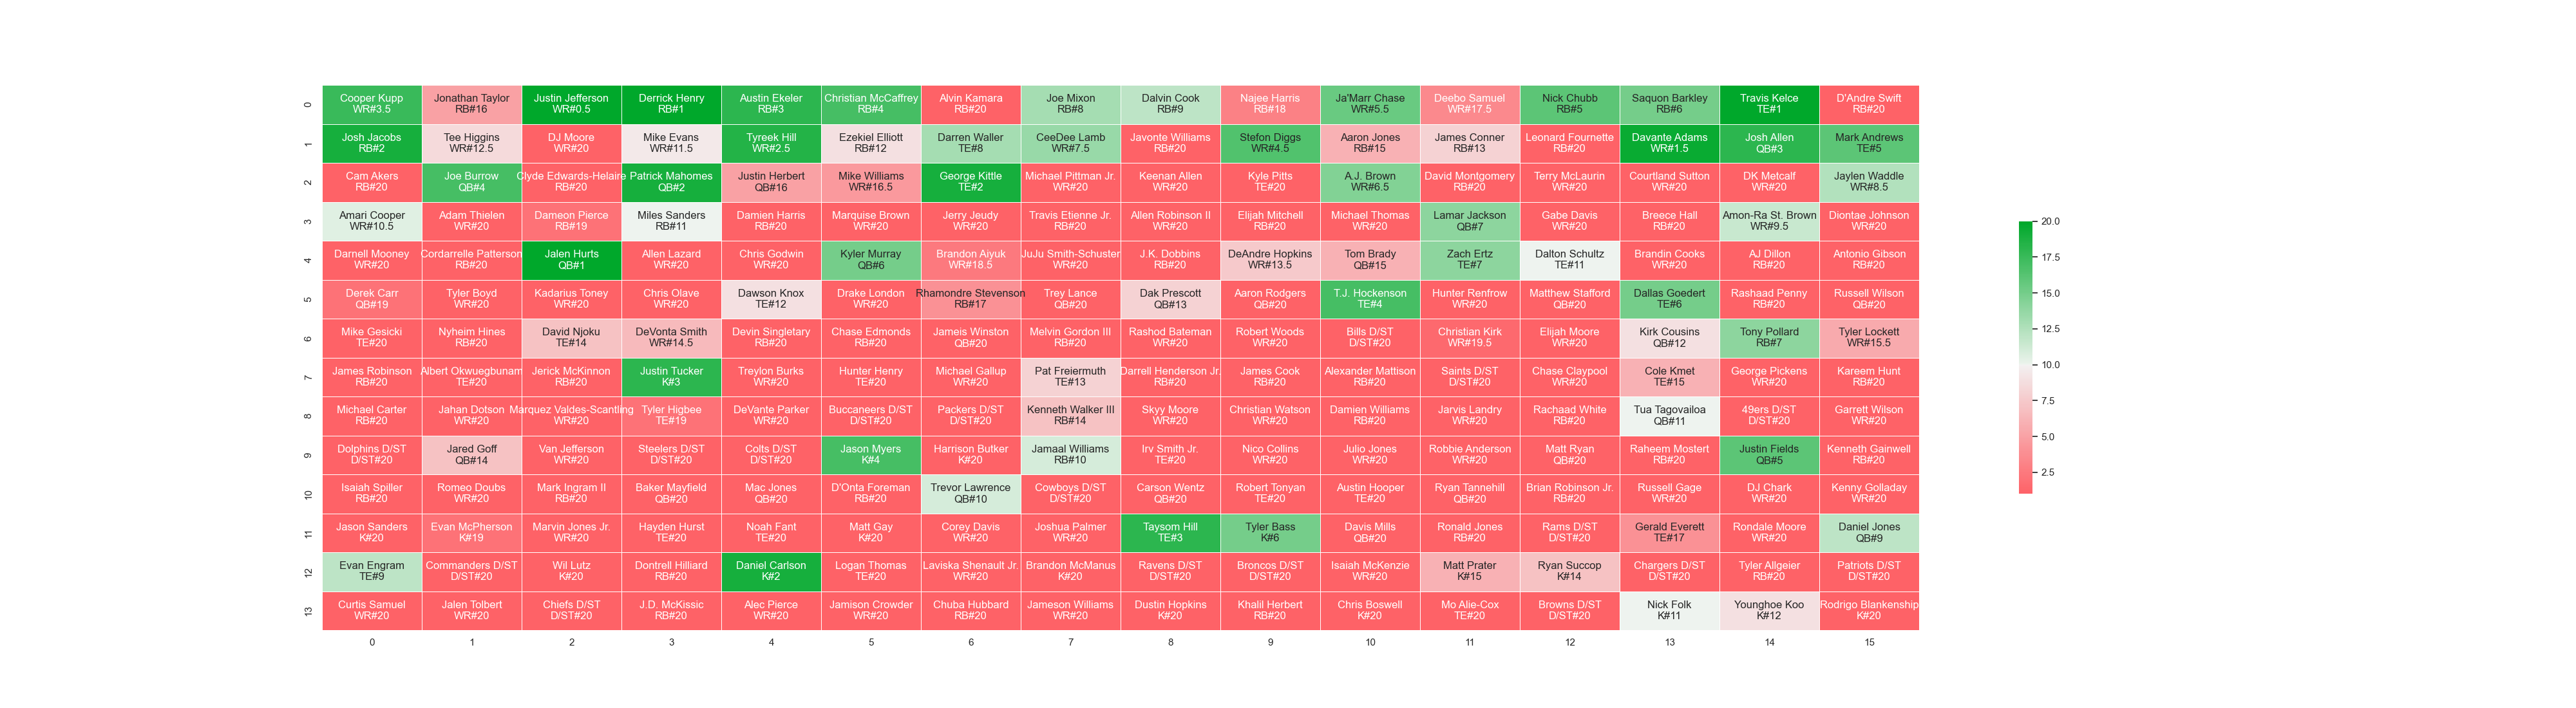

The dashboard page shown, as its layout file describes it:
{"tool":"powerbi","page":{"name":"Page 3","canvas":[1280,720],"ordinal":2},"visuals":[{"type":"pivotTable","fields":{"Rows":["Query1.round","Query1.playername"],"Columns":["Query1.pick"],"Values":["Sum(Query1.total)"]},"box":[0,0,1280,720],"z":1}]}

Visuals, with their boxes on the page's 1280x720 design canvas (x1, y1, x2, y2). These are canvas units, not pixel positions in the 2576x708 screenshot, which may show the page scaled, cropped or inside an application window:
pivotTable - Query1.round x Query1.playername: <bbox>0, 0, 1280, 720</bbox>
